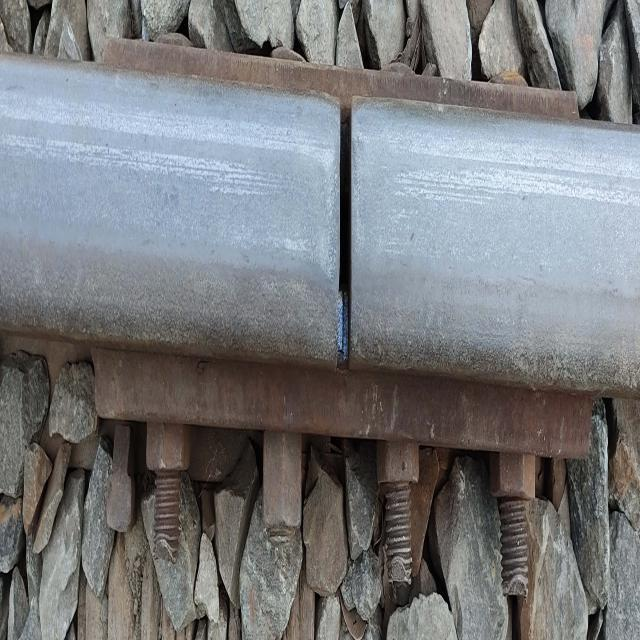Good Joint: (87, 339, 594, 605)
